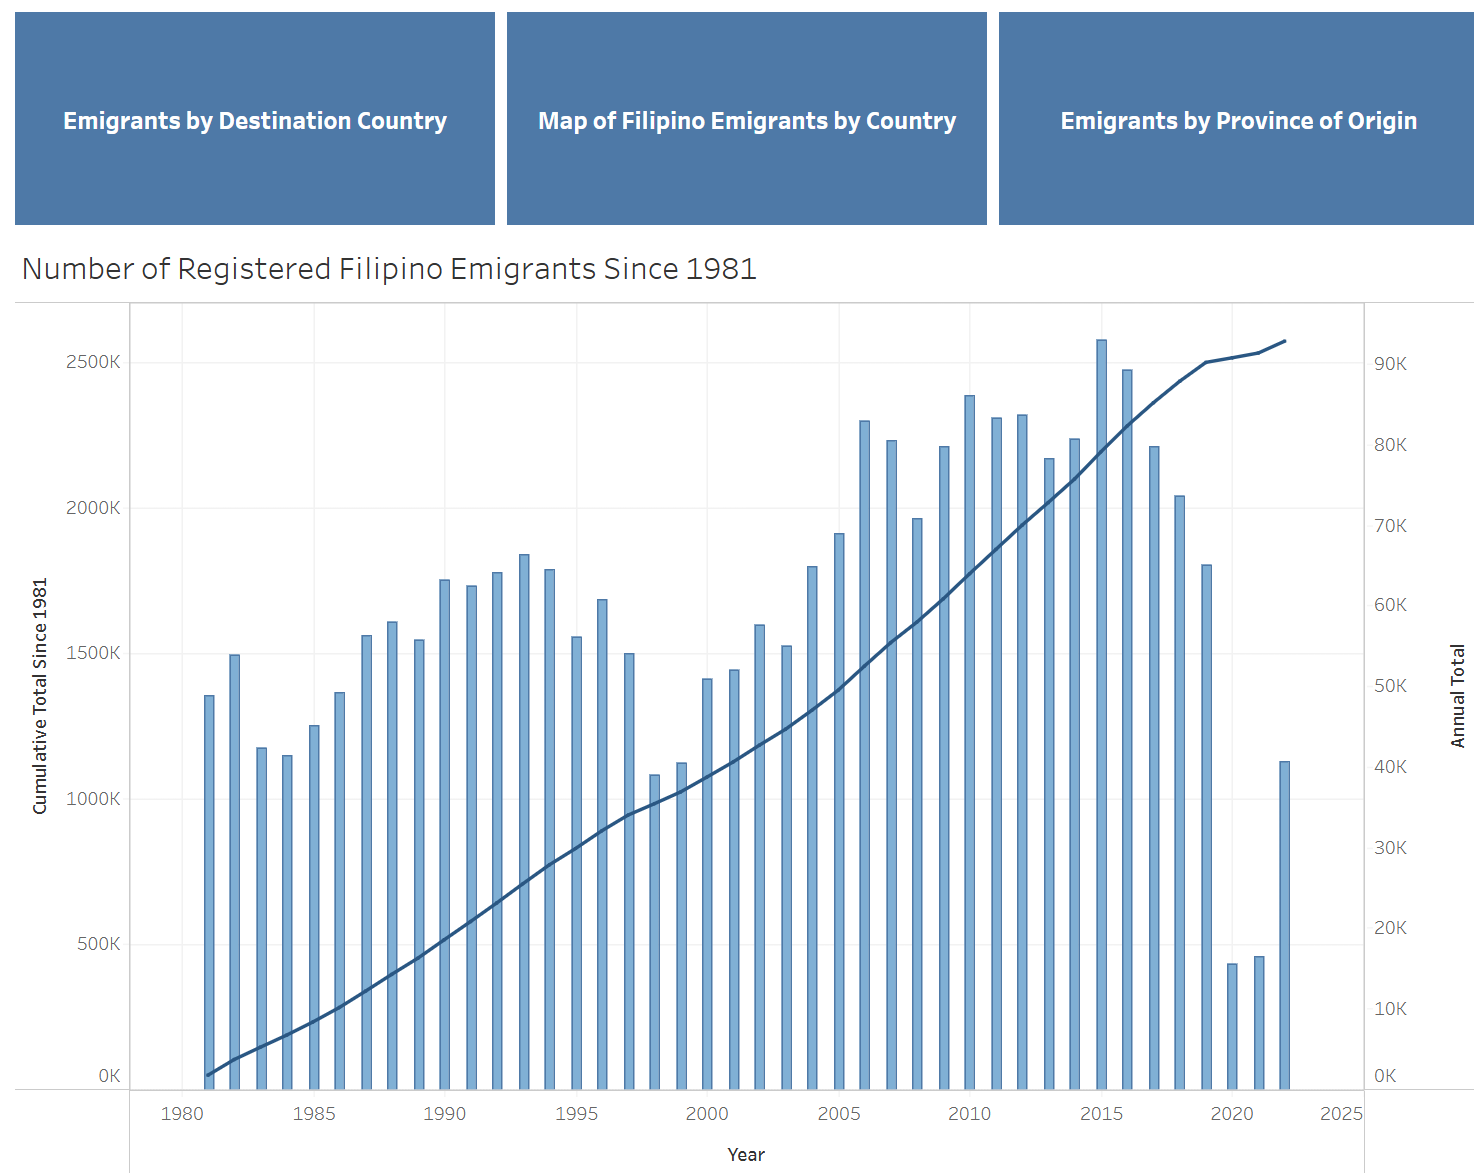

This screenshot's page, from the dashboard's own definition file:
{"tool":"tableau","page":{"name":"Number of Registered Filipino Emigrants Since 1981","canvas":[1000,800],"ordinal":0},"visuals":[{"type":"dashboard-object","box":[8,8,328,150]},{"type":"dashboard-object","box":[336,8,328,150]},{"type":"dashboard-object","box":[664,8,328,150]},{"type":"worksheet","title":"Sheet 1","mark":"Line","rows":["TOTAL","TOTAL"],"cols":["YEAR"],"box":[8,158,984,634]}]}

Visuals, with their boxes in screenshot pixels (x1, y1, x2, y2), scaled from the page's 1000x800 canvas onto the 1474x1173 screenshot:
dashboard-object: bbox(12, 12, 495, 232)
dashboard-object: bbox(495, 12, 979, 232)
dashboard-object: bbox(979, 12, 1462, 232)
"Sheet 1" worksheet (Line marks): bbox(12, 232, 1462, 1161)
